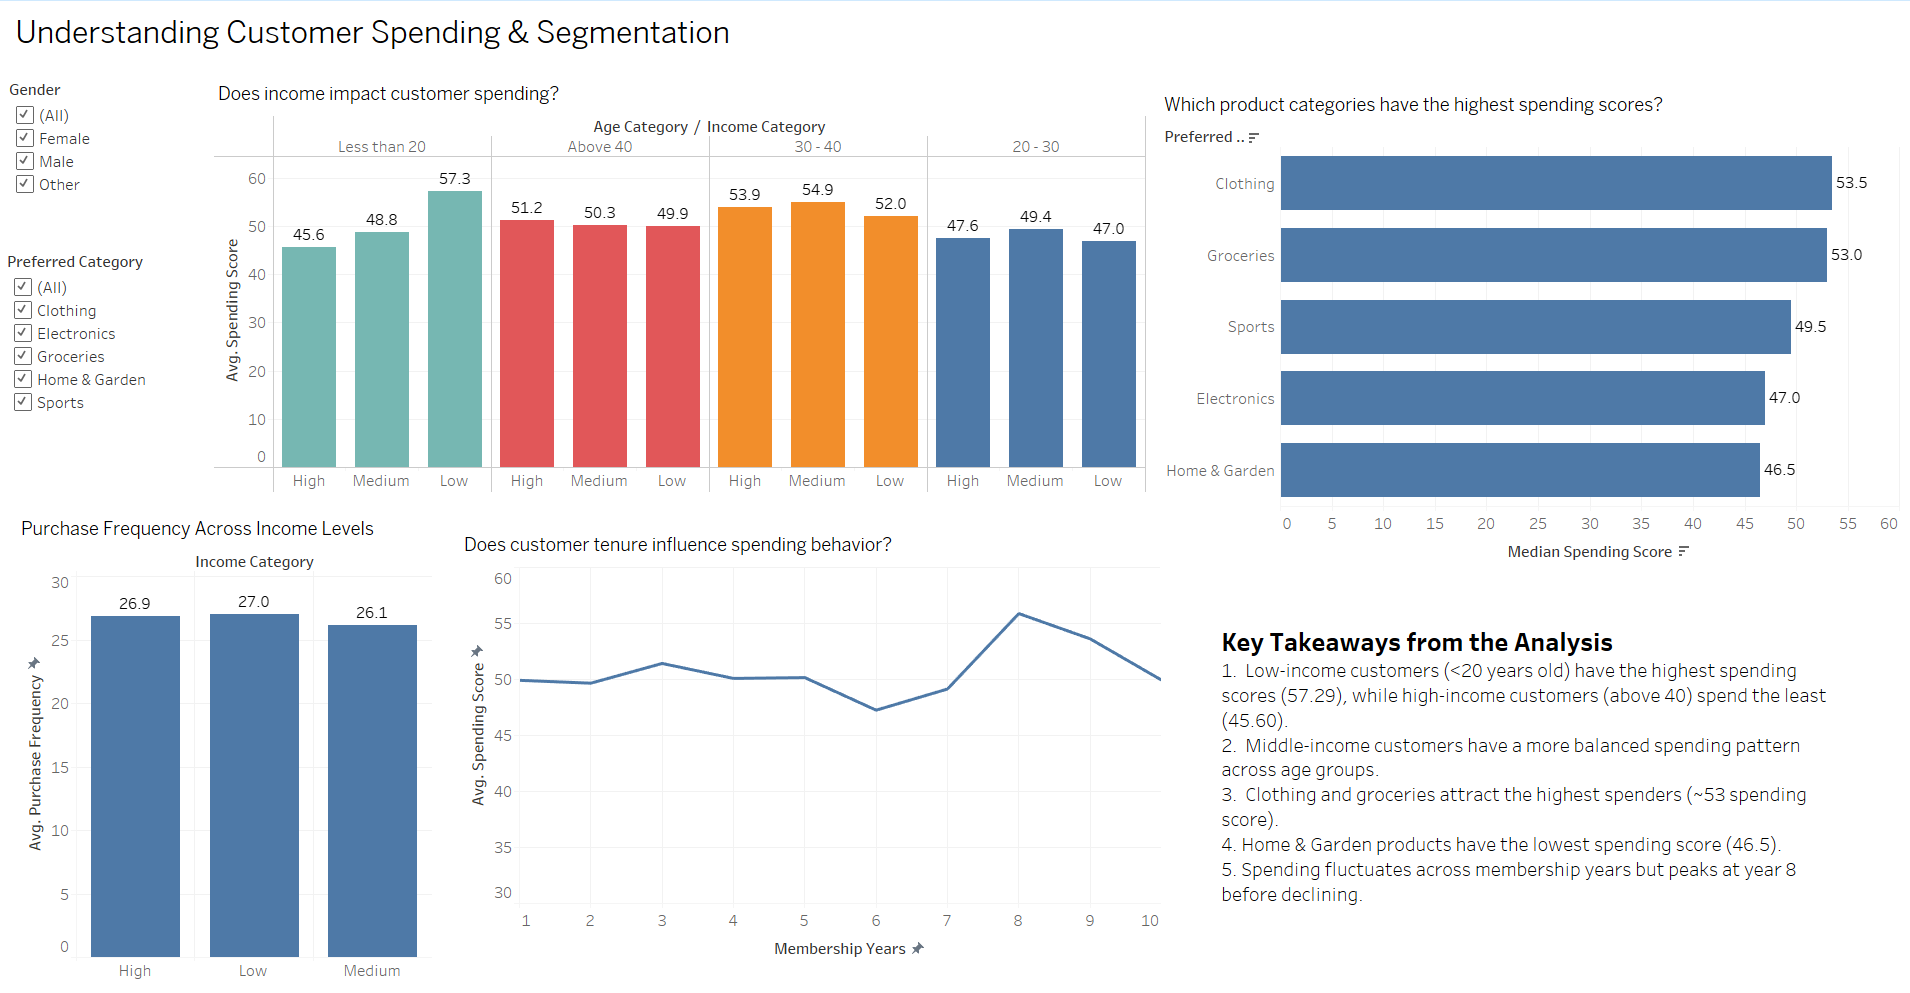

The page's visual inventory and layout, read from the dashboard file:
{"tool":"tableau","page":{"name":"Dashboard 1","canvas":[1000,1000],"units":"permille","ordinal":0},"visuals":[{"type":"title","box":[4.8,10,990.3,57.4]},{"type":"worksheet","title":"Sheet 1","mark":"Automatic","rows":["spending_score"],"cols":["Calculation_488640608061456384","Calculation_130322960623165443"],"box":[111.7,77.4,485.2,418.2]},{"type":"filter","title":"Sheet 1","param":"[federated.14vad2v1vntc5m1622hmh17as504].[none:gender:nk]","box":[4.8,78.7,77.2,149.8]},{"type":"worksheet","title":"Sheet 4","mark":"Automatic","rows":["preferred_category"],"cols":["spending_score"],"box":[604.1,88.6,385.6,483.2]},{"type":"filter","title":"Sheet 4","param":"[federated.14vad2v1vntc5m1622hmh17as504].[none:preferred_category:nk]","box":[3.6,252.2,88.1,207.2]},{"type":"worksheet","title":"Sheet 2","mark":"Automatic","rows":["purchase_frequency"],"cols":["Calculation_130322960623165443"],"box":[9.1,515.6,216.1,471.9]},{"type":"worksheet","title":"Sheet 5","mark":"Automatic","rows":["spending_score"],"cols":["membership_years"],"box":[239.6,531.8,365.1,451.9]},{"type":"text","box":[634.3,588,333.1,363.3]}]}

Visuals, with their boxes on the dashboard's canvas, which has no fixed pixel size, in thousandths of its width and height (x1, y1, x2, y2). These are canvas units, not pixel positions in the 1910x993 screenshot, which may show the page scaled, cropped or inside an application window:
title: <box>5,10,995,67</box>
"Sheet 1" worksheet: <box>112,77,597,496</box>
"Sheet 1" filter: <box>5,79,82,228</box>
"Sheet 4" worksheet: <box>604,89,990,572</box>
"Sheet 4" filter: <box>4,252,92,459</box>
"Sheet 2" worksheet: <box>9,516,225,988</box>
"Sheet 5" worksheet: <box>240,532,605,984</box>
text: <box>634,588,967,951</box>
